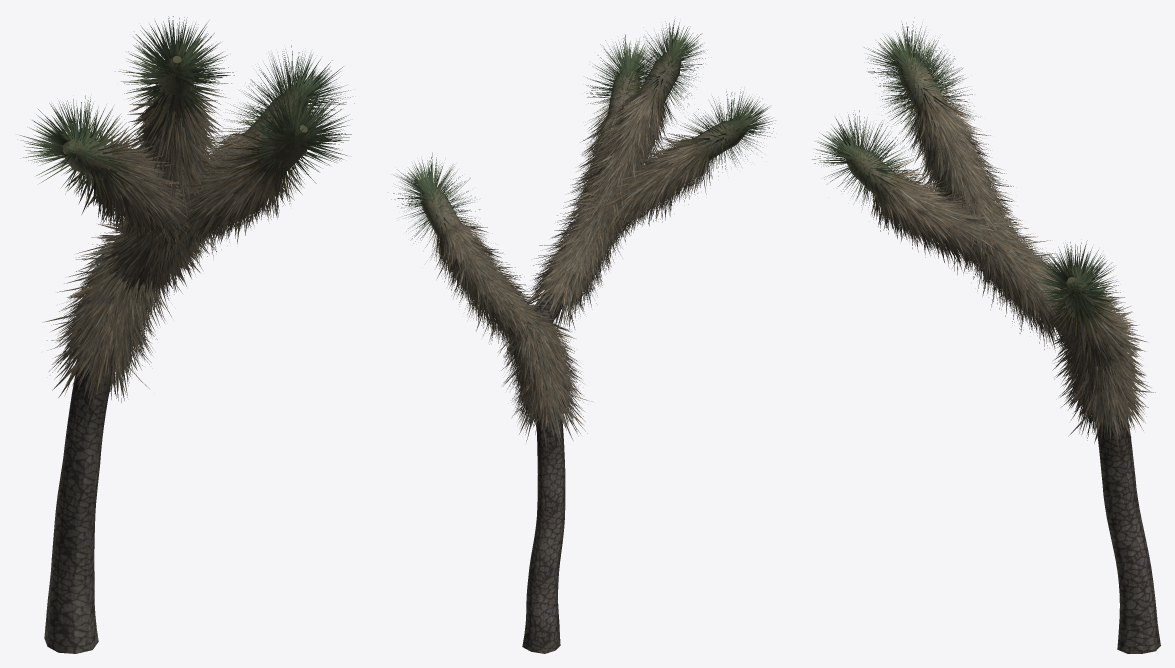
File: joshua_b.glb
The picture shows the model from 3 angles, left to right: view 1: azimuth 30°, elevation 25°; view 2: azimuth 150°, elevation 25°; view 3: azimuth 270°, elevation 25°; orthographic projection. The views are drawn at different scales.
Parts seen in each view (by area): view 1: joshua_b; view 2: joshua_b; view 3: joshua_b.
Part boxes in pixels (left/top/right/bottom): joshua_b: left=19, top=16, right=354, bottom=653; joshua_b: left=391, top=19, right=775, bottom=653; joshua_b: left=812, top=17, right=1160, bottom=653.
Size of the model in its own units: 2.99 by 4.99 by 2.62.
3 materials, 3 textured.
